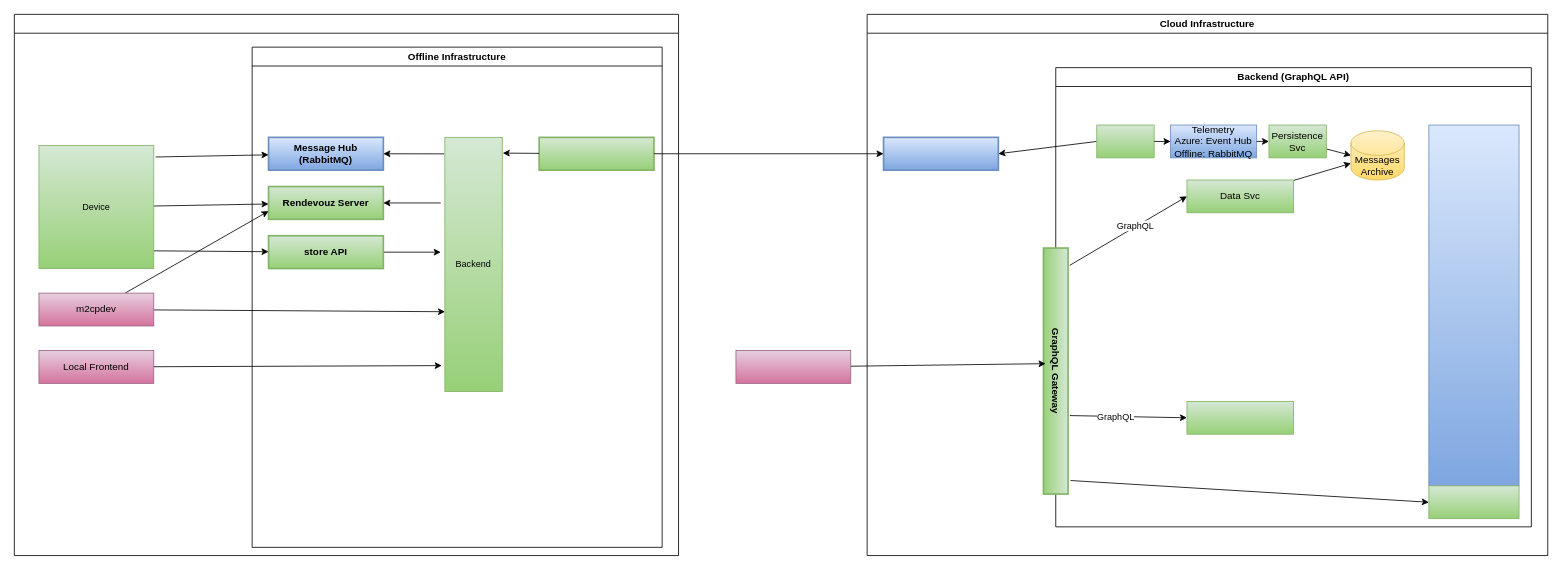
This 1562x570 diagram has some shape labels left out. Each missing label, with the centre of its shape:
"Data Upload Svc" belongs at (596,153).
"Frontend" belongs at (793,366).
"Ingestion Svc" belongs at (1125,141).
"Log Query Service" belongs at (1473,502).
"Logging Service Azure: AppInsights Offline: Custom Used by all Services" belongs at (1473,305).
"Message Hub (IoT Hub)" belongs at (940,153).
"Secure Intranet" belongs at (346,285).
"User Svc" belongs at (1240,417).
